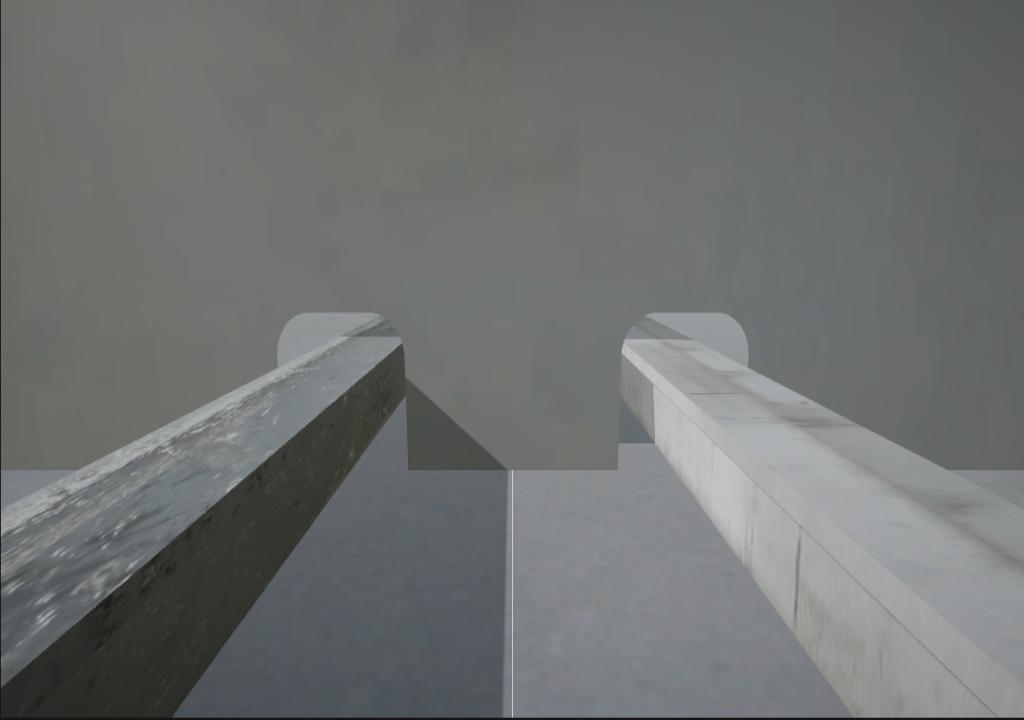fillet_yong_jeop_jang: (398, 453, 633, 482)
